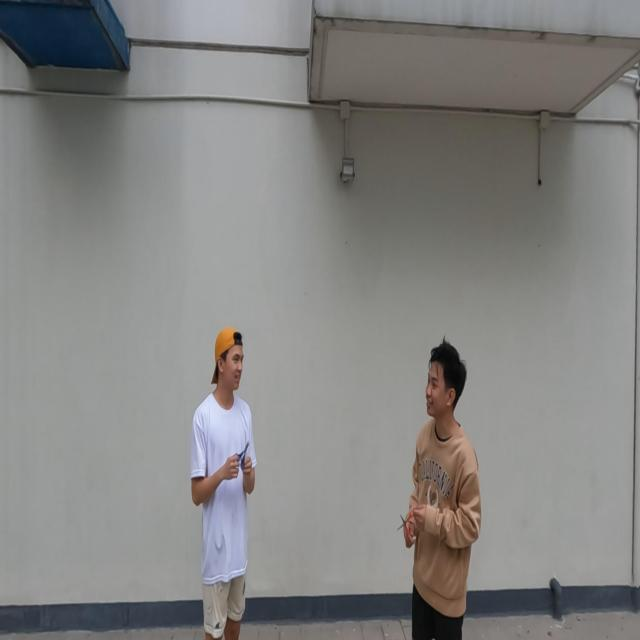scissor: (397, 507, 416, 539), (237, 441, 250, 470)
